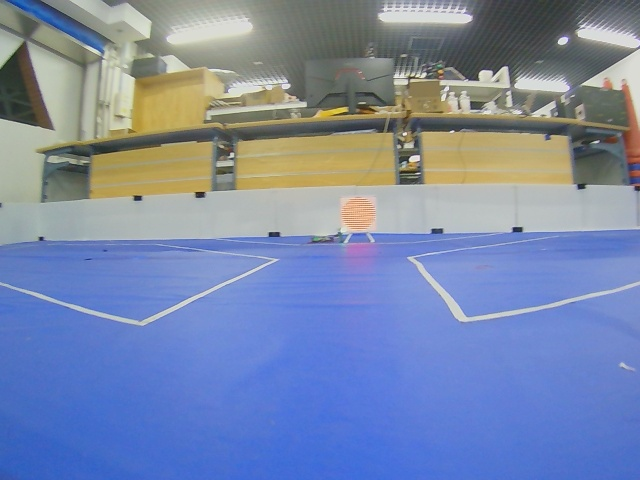red: (340, 197, 377, 232)
